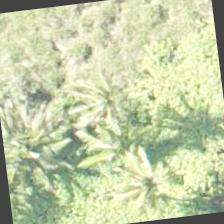Kelapa_Sawit: (53, 47, 153, 147), (95, 134, 195, 223), (0, 99, 72, 197)
